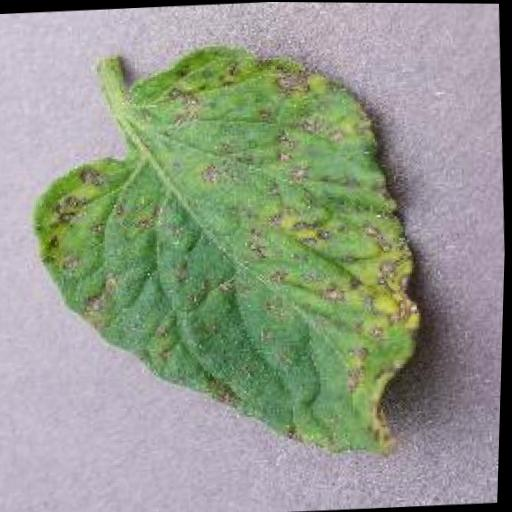Septoria: (22, 35, 435, 478)
